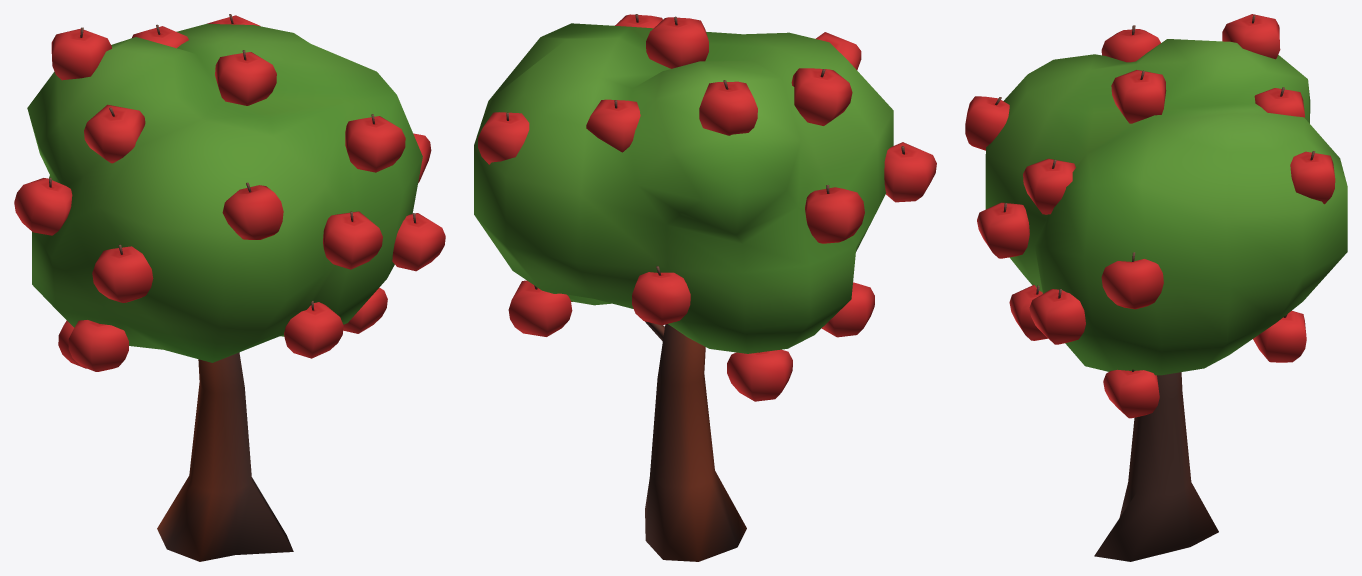
The model's file is Apple_tree.FBX.
3 renders of one model, left to right at view 1: azimuth 30°, elevation 25°; view 2: azimuth 150°, elevation 25°; view 3: azimuth 270°, elevation 25°, orthographic. The views are drawn at different scales.
Parts seen in each view (by area): view 1: Apple_tree, Apple (×13); view 2: Apple_tree, Apple (×12); view 3: Apple_tree, Apple (×13).
Boxes of the visible parts, x1,y1,x2,y2 form: Apple_tree: (27,23,422,561); Apple (×13): (14,24,445,371); Apple_tree: (474,23,893,561); Apple (×12): (478,16,936,401); Apple_tree: (985,39,1347,561); Apple (×13): (965,14,1335,418).
Bounding box in the file's own units: 3.75 × 4.67 × 3.38.
